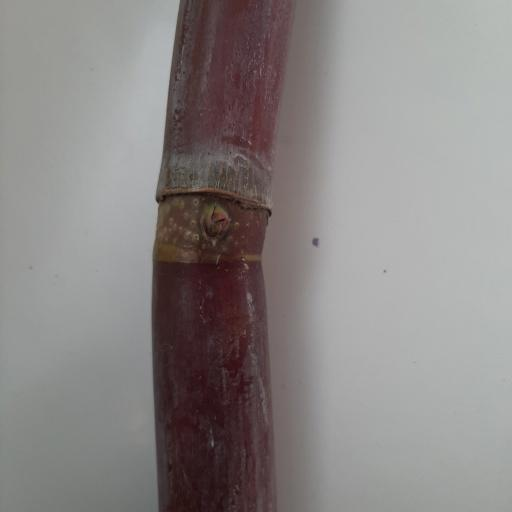Bud: (198, 202, 233, 243)
